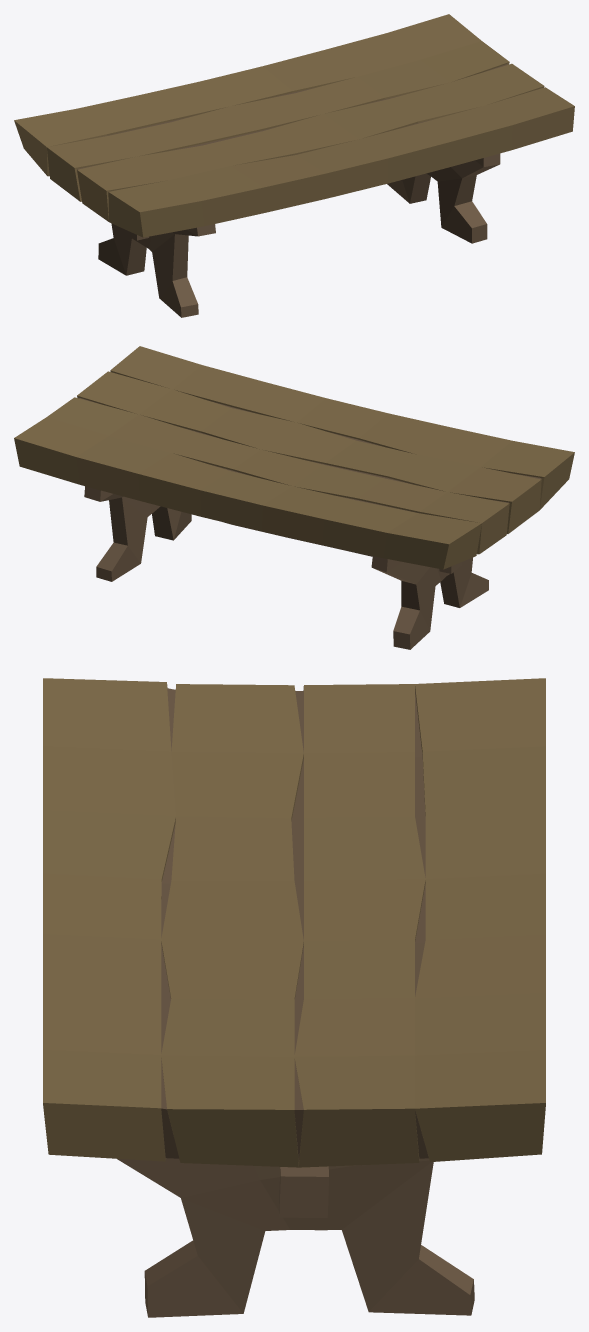
The model's file is small_table.gltf.
3 renders of one model, top to bottom at view 1: azimuth 30°, elevation 25°; view 2: azimuth 150°, elevation 25°; view 3: azimuth 270°, elevation 25°, orthographic. The views are drawn at different scales.
Parts seen in each view (by area): view 1: Table_Small; view 2: Table_Small; view 3: Table_Small.
Boxes of the visible parts, left/top/right/bottom form: Table_Small: left=14, top=14, right=574, bottom=317; Table_Small: left=14, top=346, right=574, bottom=649; Table_Small: left=43, top=678, right=545, bottom=1317.
Size of the model in its own units: 2.86 by 0.8615 by 1.43.
Materials: 1 (1 with a texture image).
